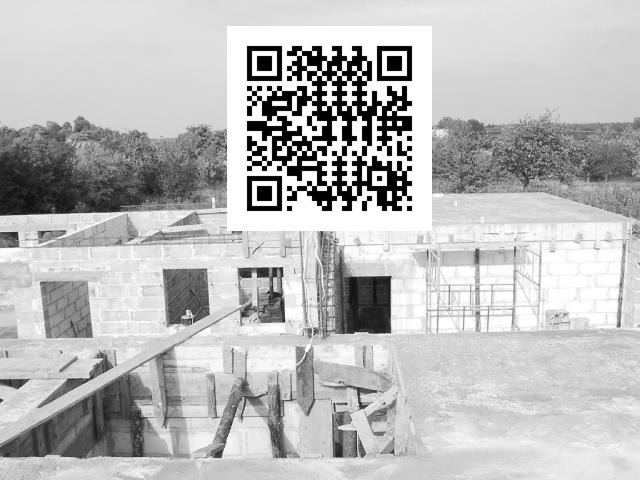qr_code: (228, 25, 433, 231)
